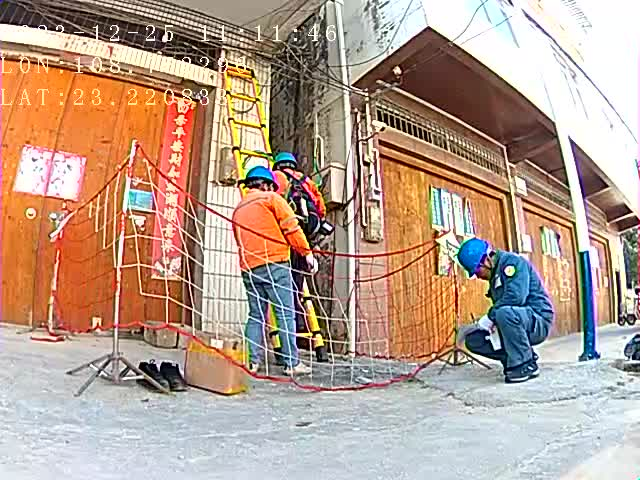downcloth: (245, 272, 303, 367)
downsuit: (466, 310, 545, 372)
halt: (458, 237, 492, 276), (244, 167, 278, 192), (274, 152, 298, 174)
inear: (479, 251, 497, 278)
person: (232, 167, 310, 374), (458, 234, 556, 383), (267, 150, 331, 308)
sleeve: (502, 262, 520, 277)
upsuit: (479, 247, 551, 310)
wglove: (475, 313, 495, 333), (305, 252, 319, 276)
yupsuit: (234, 191, 312, 272)
